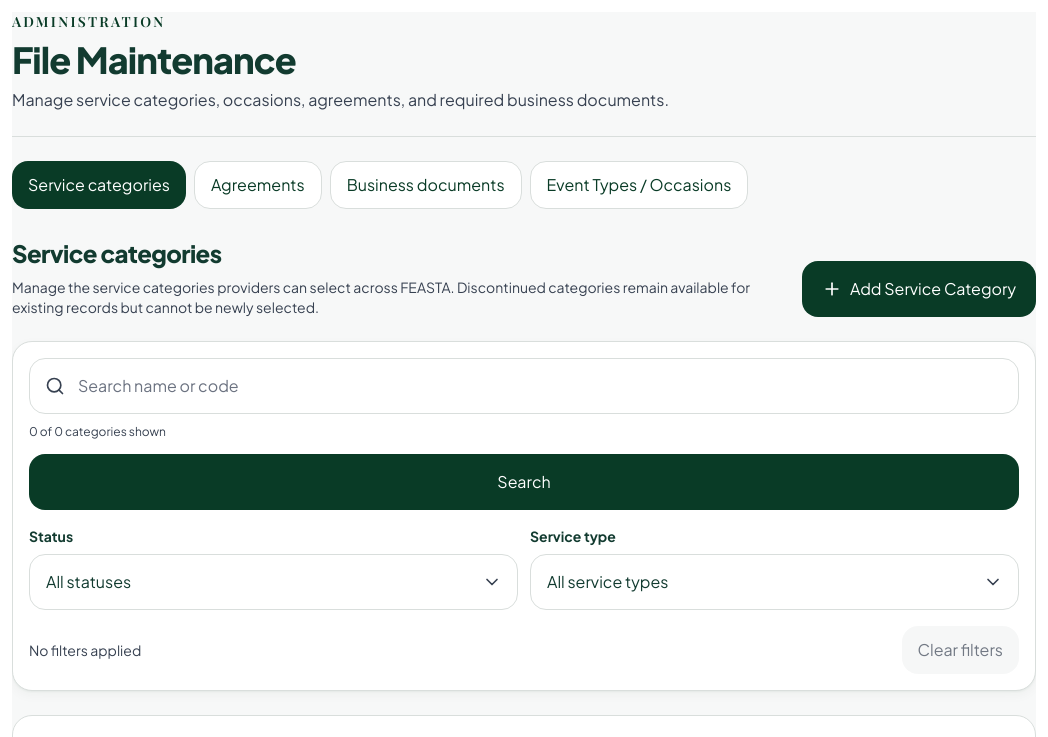
File Maintenance document catalog › preserves the three existing sections and adds occasion maintenance
This screenshot has width=1048, height=737.
Click the tab "Agreements".
click(258, 185)  # box left=194, top=161, right=322, bottom=209
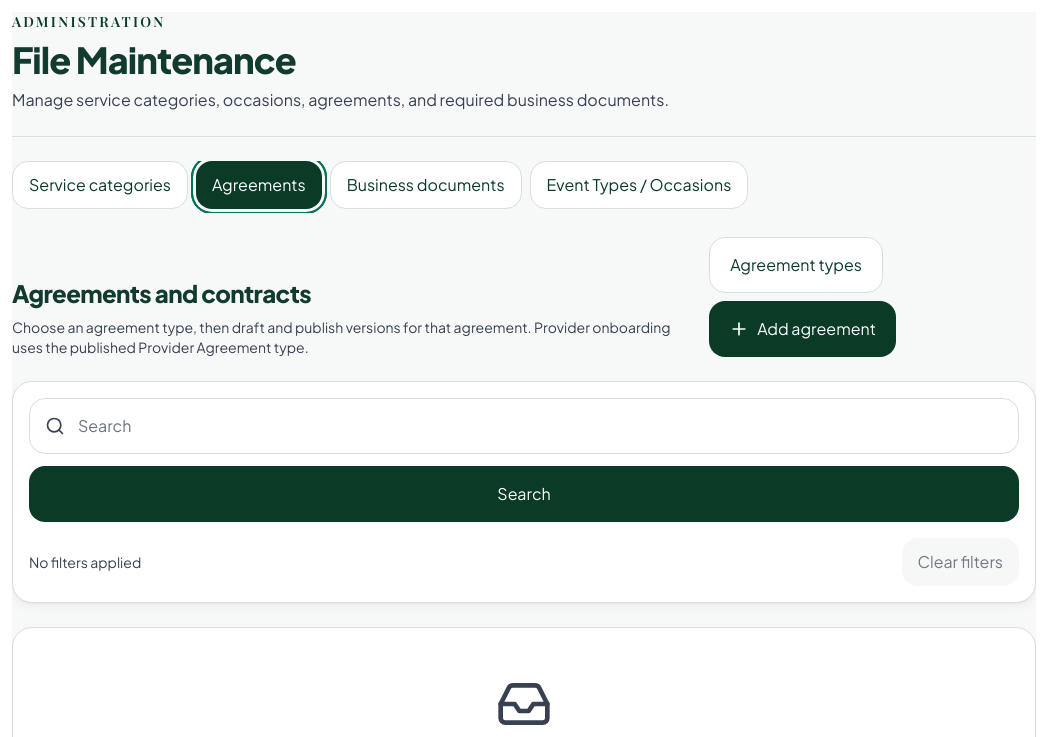
Expected: the button "Add agreement" is shown, left=709, top=301, right=896, bottom=357
Click the tab "Business documents".
click(426, 185)  # box left=330, top=161, right=522, bottom=209
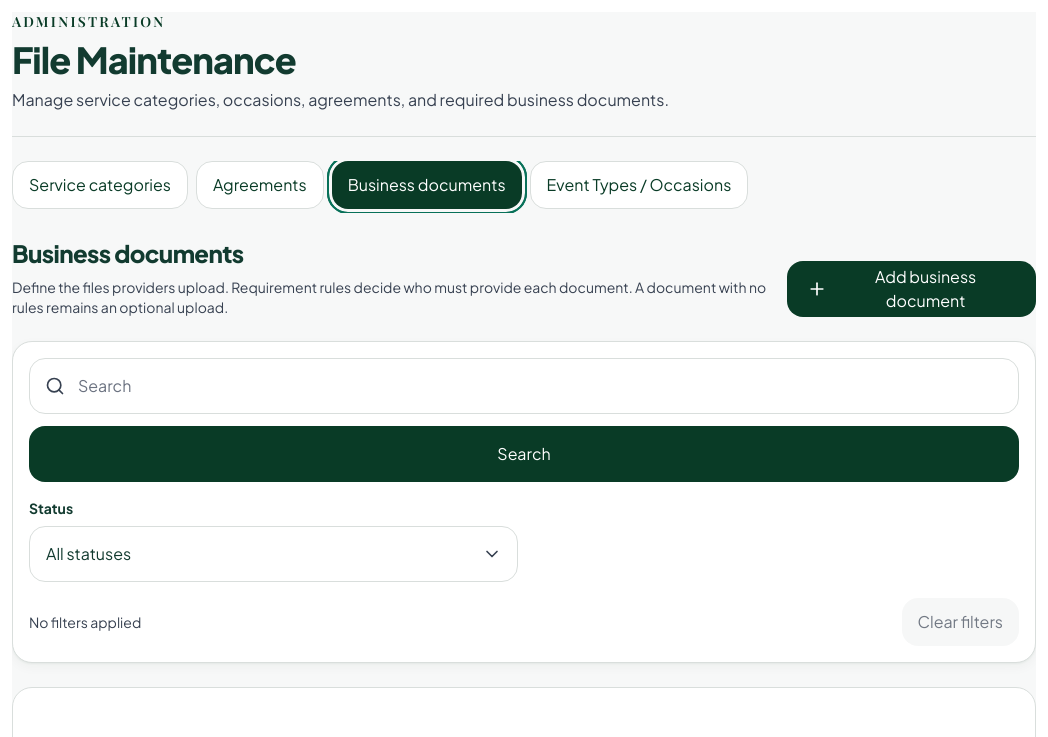
Expected: the button "Add business document" is shown, left=787, top=261, right=1036, bottom=317
